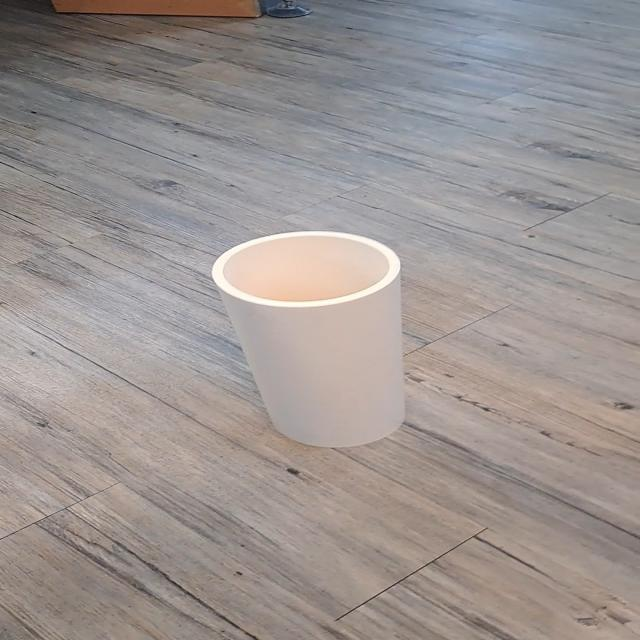CORAL: (199, 203, 478, 460)
